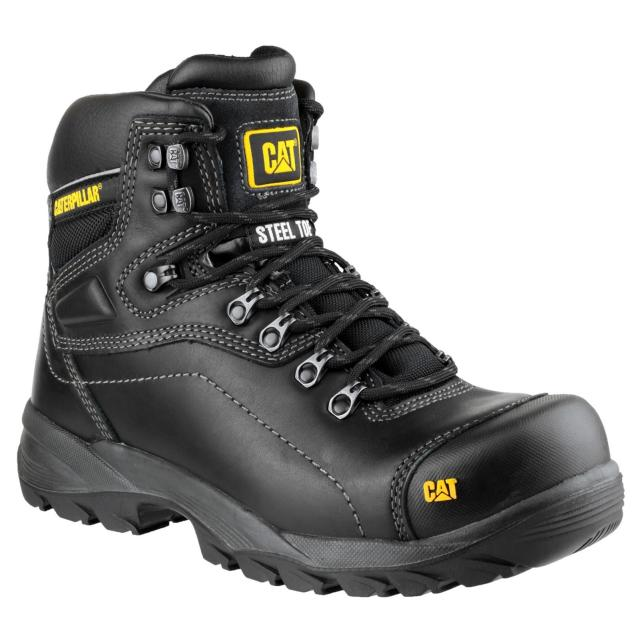boot: (11, 40, 633, 608)
